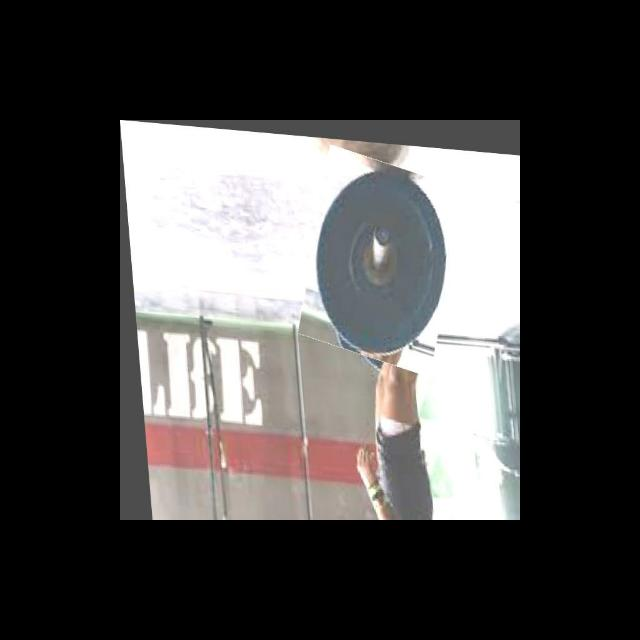barbell: (294, 145, 463, 368)
